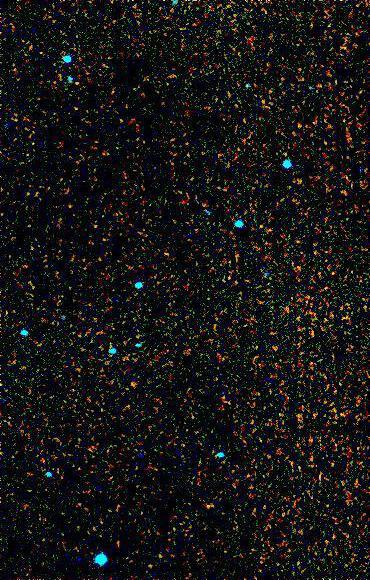star: (167, 442, 197, 472)
